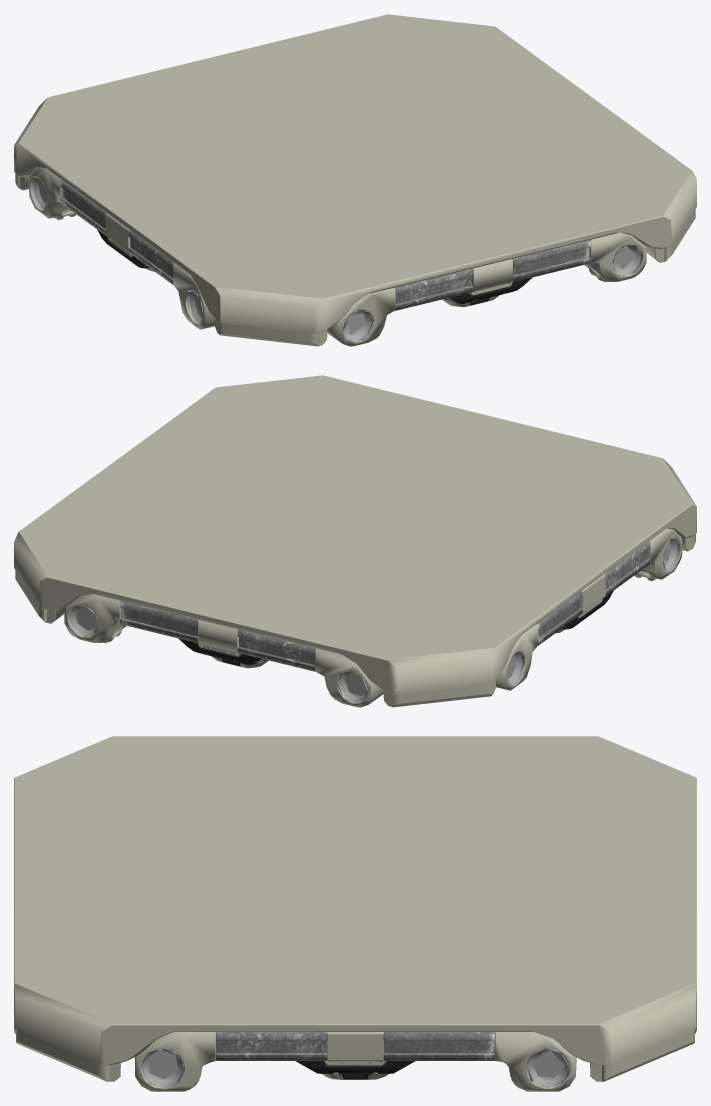
File: roof_corridor.glb
3 renders of one model, top to bottom at view 1: azimuth 30°, elevation 25°; view 2: azimuth 150°, elevation 25°; view 3: azimuth 270°, elevation 25°, orthographic. The views are drawn at different scales.
Parts seen in each view (by area): view 1: Roof_Corridor; view 2: Roof_Corridor; view 3: Roof_Corridor.
Part boxes in pixels (left/top/right/bottom): Roof_Corridor: left=14, top=14, right=696, bottom=346; Roof_Corridor: left=14, top=375, right=696, bottom=707; Roof_Corridor: left=14, top=736, right=696, bottom=1091.
Size of the model in its own units: 5.24 by 0.6163 by 5.24.
Materials: 10 (1 with a texture image).
